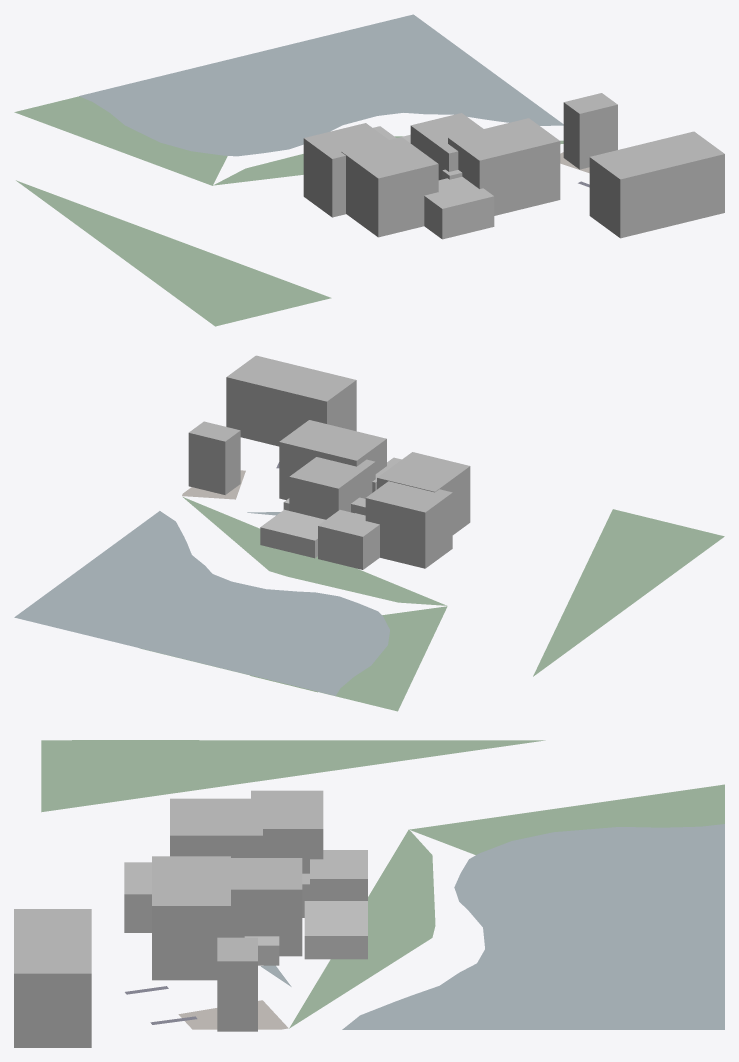
Rendered from 114_82_mid.glb.
3 views of the same model, one above another, from view 1: azimuth 30°, elevation 25°; view 2: azimuth 150°, elevation 25°; view 3: azimuth 270°, elevation 25° (orthographic). The views are drawn at different scales.
Size of the model in its own units: 532 by 61.21 by 520.
